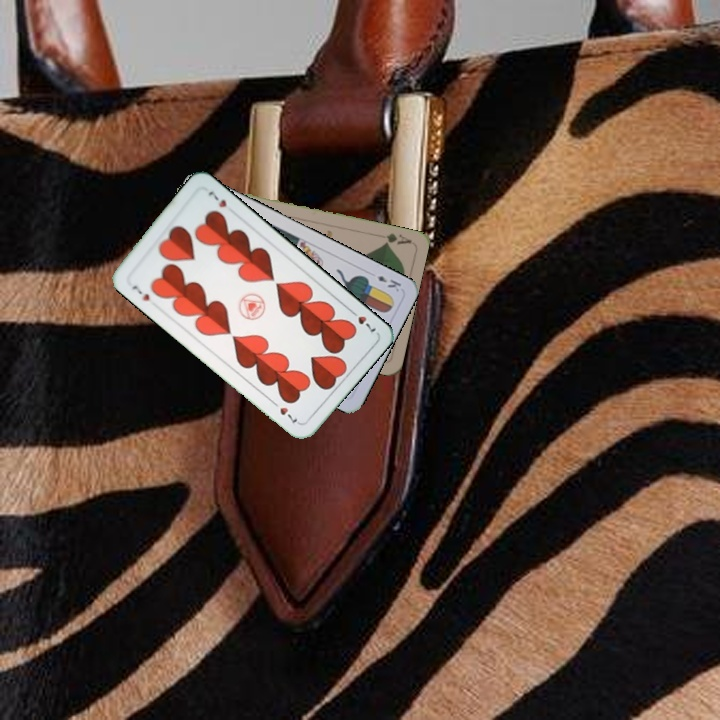EK: (373, 272, 404, 294)
GA: (373, 229, 414, 248)
H7: (345, 305, 379, 335), (128, 281, 152, 303)
